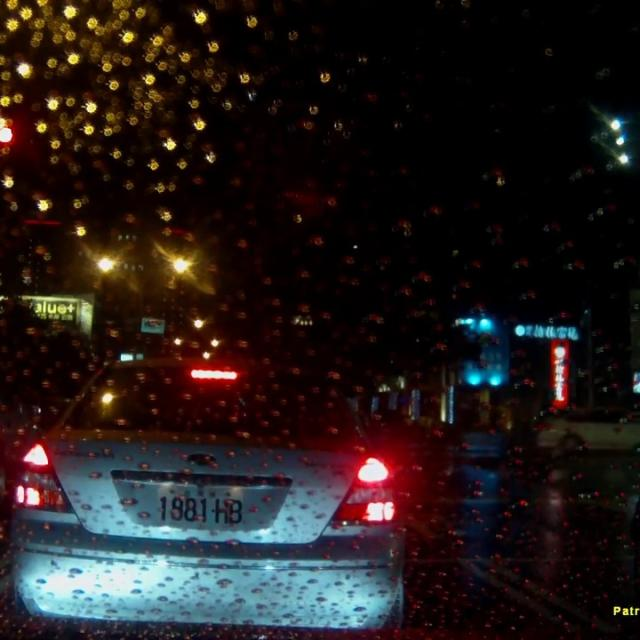Car: (0, 358, 402, 624), (530, 402, 639, 460), (374, 406, 456, 464)
